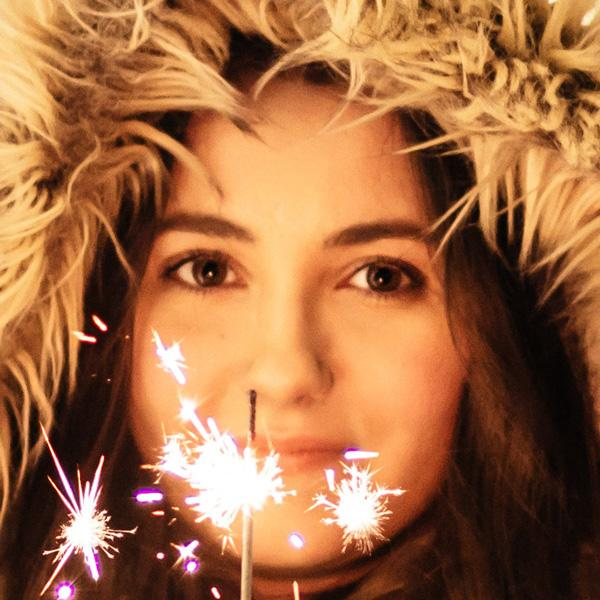Eyes: (328, 247, 432, 309), (155, 239, 253, 304)
